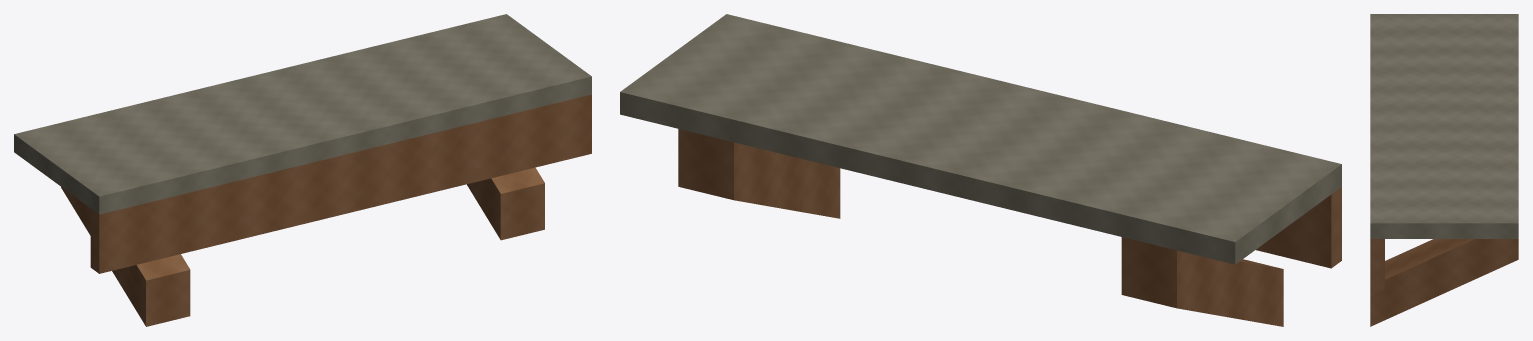
Rendered from MRP_StairStep_1m.fbx.
The picture shows the model from 3 angles, left to right: view 1: azimuth 30°, elevation 25°; view 2: azimuth 150°, elevation 25°; view 3: azimuth 270°, elevation 25°; orthographic projection. The views are drawn at different scales.
Parts seen in each view (by area): view 1: Body; view 2: Body; view 3: Body.
Boxes of the visible parts, left/top/right/bottom form: Body: left=14, top=14, right=591, bottom=326; Body: left=620, top=14, right=1341, bottom=326; Body: left=1370, top=14, right=1518, bottom=326.
Bounding box in the file's own units: 1 × 0.275 × 0.3.
